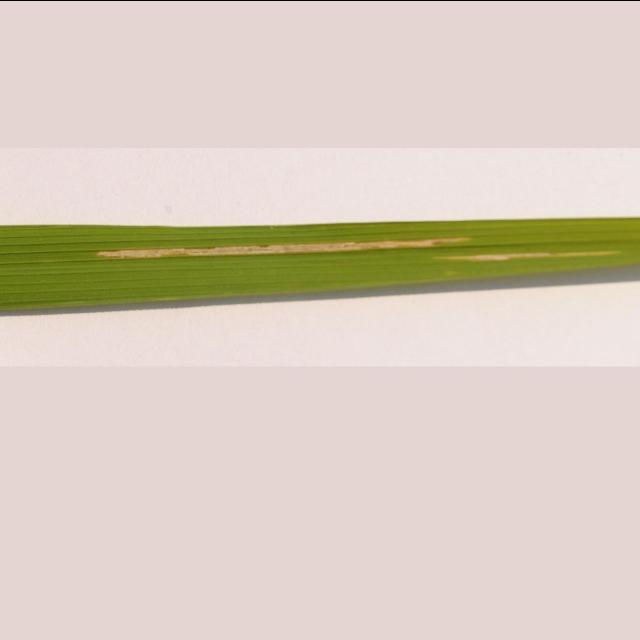Bacterial leaf blight: (0, 144, 640, 366)
